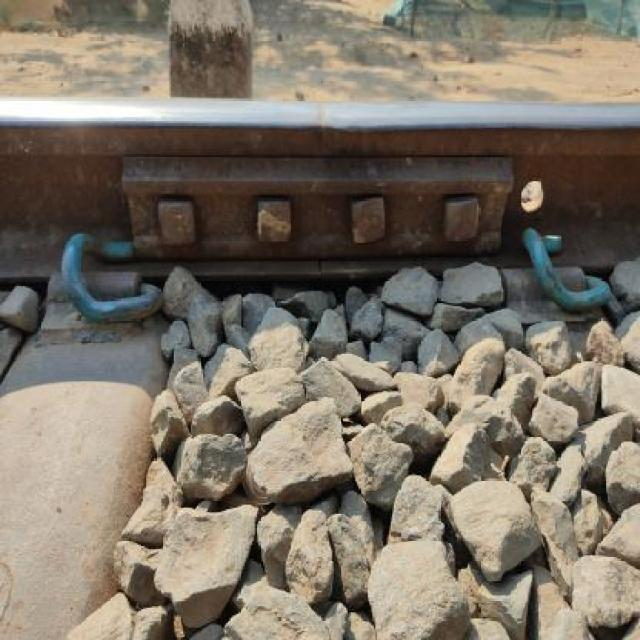defective: (280, 49, 394, 215)
